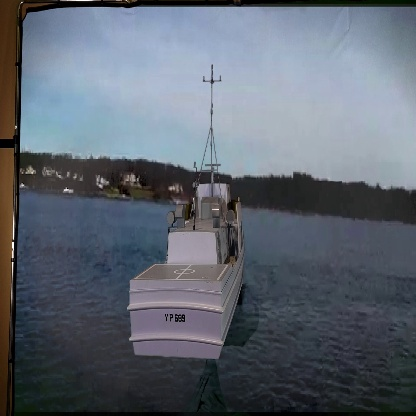YP689: (126, 61, 248, 361)
